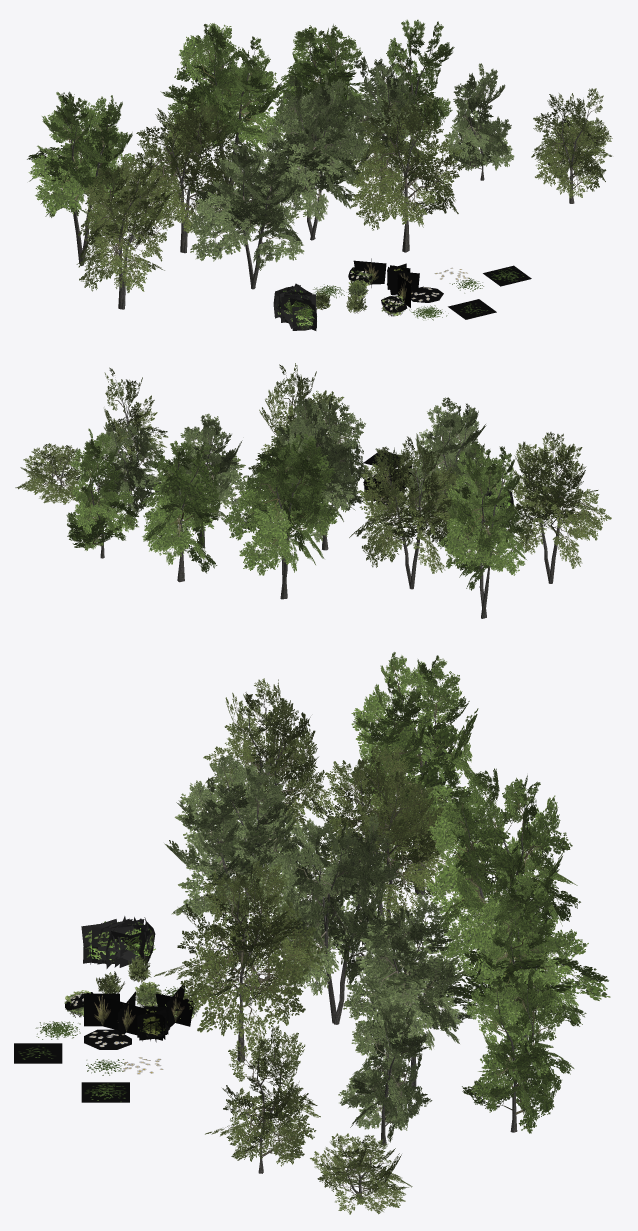
File: Trees and Bushes.fbx
3 renders of one model, top to bottom at view 1: azimuth 30°, elevation 25°; view 2: azimuth 150°, elevation 25°; view 3: azimuth 270°, elevation 25°, orthographic. The views are drawn at different scales.
Parts seen in each view (by area): view 1: Tree-02-1, Tree-01-3, Tree-02-2, Tree-03-2, Tree-01-1, Tree-03-1, Tree-01-2, Tree-01-4, Tree-02-4, Tree-03-3, Tree-02-3, Tree-03-4 (+6 smaller); view 2: Tree-03-2, Tree-01-2, Tree-03-1, Tree-01-1, Tree-03-3, Tree-02-2, Tree-03-4, Tree-02-1, Tree-02-3, Tree-02-4, Bush-05, Tree-01-4 (+1 smaller); view 3: Tree-01-3, Tree-03-2, Tree-02-2, Tree-02-1, Tree-03-1, Tree-03-3, Tree-02-3, Tree-01-2, Tree-03-4, Tree-01-1, Tree-01-4, Tree-02-4 (+9 smaller).
Part boxes in pixels (x1=…): Tree-02-1: x1=188, y1=139, x2=304, y2=289; Tree-01-3: x1=351, y1=95, x2=465, y2=252; Tree-02-2: x1=261, y1=74, x2=368, y2=240; Tree-03-2: x1=160, y1=23, x2=281, y2=184; Tree-01-1: x1=76, y1=152, x2=180, y2=309; Tree-03-1: x1=27, y1=91, x2=135, y2=265; Tree-01-2: x1=127, y1=96, x2=243, y2=253; Tree-01-4: x1=531, y1=88, x2=608, y2=203; Tree-02-4: x1=444, y1=63, x2=514, y2=180; Tree-03-3: x1=271, y1=24, x2=364, y2=135; Tree-02-3: x1=338, y1=56, x2=431, y2=192; Tree-03-4: x1=377, y1=19, x2=454, y2=148; Tree-03-2: x1=225, y1=425, x2=338, y2=599; Tree-01-2: x1=349, y1=436, x2=472, y2=589; Tree-03-1: x1=437, y1=441, x2=526, y2=618; Tree-01-1: x1=502, y1=432, x2=611, y2=583; Tree-03-3: x1=141, y1=440, x2=221, y2=582; Tree-02-2: x1=269, y1=395, x2=374, y2=550; Tree-03-4: x1=66, y1=428, x2=138, y2=558; Tree-02-1: x1=404, y1=397, x2=497, y2=547; Tree-02-3: x1=144, y1=413, x2=252, y2=547; Tree-02-4: x1=96, y1=421, x2=164, y2=513; Bush-05: x1=15, y1=443, x2=94, y2=504; Tree-01-4: x1=99, y1=367, x2=168, y2=472; Tree-01-3: x1=154, y1=860, x2=326, y2=1062; Tree-03-2: x1=425, y1=768, x2=580, y2=1003; Tree-02-2: x1=272, y1=813, x2=406, y2=1024; Tree-02-1: x1=164, y1=753, x2=314, y2=962; Tree-03-1: x1=342, y1=652, x2=487, y2=894; Tree-03-3: x1=453, y1=871, x2=610, y2=1074; Tree-02-3: x1=343, y1=893, x2=472, y2=1088; Tree-01-2: x1=299, y1=744, x2=459, y2=934; Tree-03-4: x1=462, y1=966, x2=574, y2=1133; Tree-01-1: x1=197, y1=678, x2=335, y2=875; Tree-01-4: x1=205, y1=1025, x2=320, y2=1173; Tree-02-4: x1=338, y1=996, x2=432, y2=1145.
Bounding box in the file's own units: 1847 × 559 × 1244.
22 materials, 22 textured.
